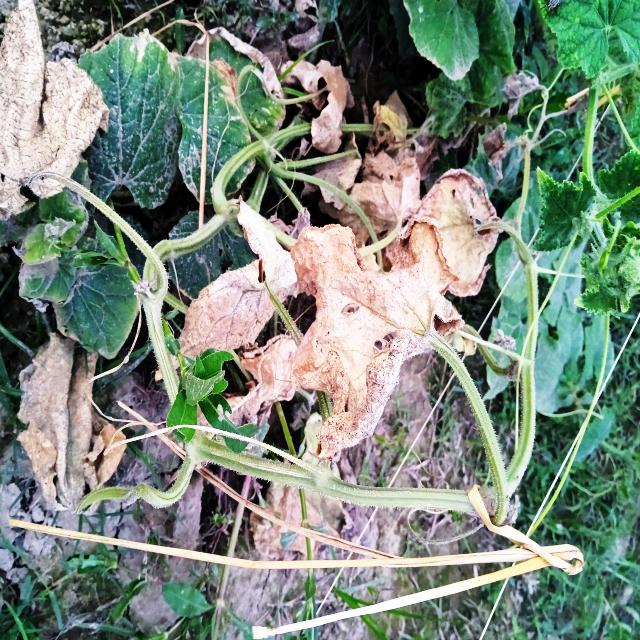Bacterial-Wilt: (286, 213, 465, 460), (155, 196, 299, 381), (0, 0, 113, 216), (15, 330, 125, 519), (417, 168, 507, 300)
